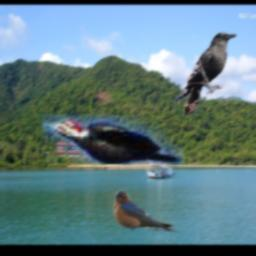Crow: (176, 32, 237, 115)
Swallow: (114, 189, 180, 233)
Woodpecker: (43, 115, 184, 165)
